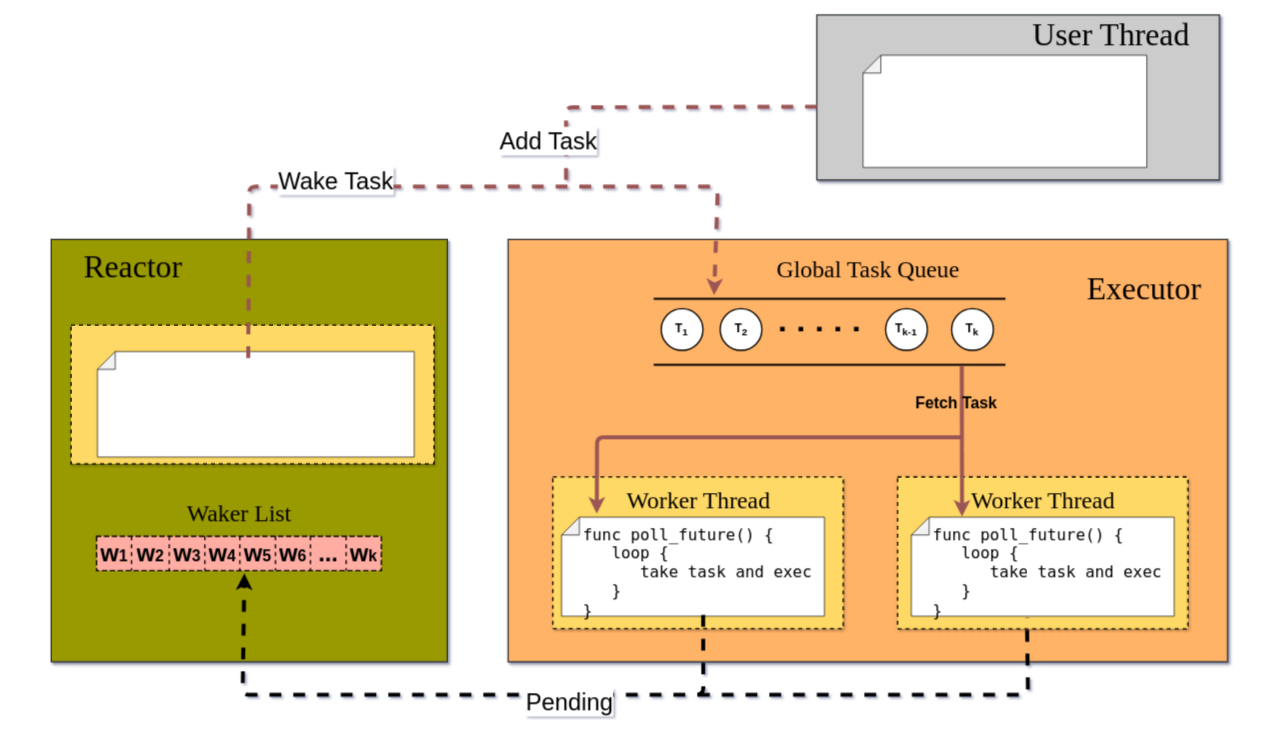
The diagram is 1280 pixels wide and 731 high, and some of its shapes have lost their labels. Each missing label, with the centre of its shape:
"func user_thread() { ... spawn task ... }" goes at point (1004, 111).
"func wake_tasks() { loop { check list and wake task } }" goes at point (255, 404).
